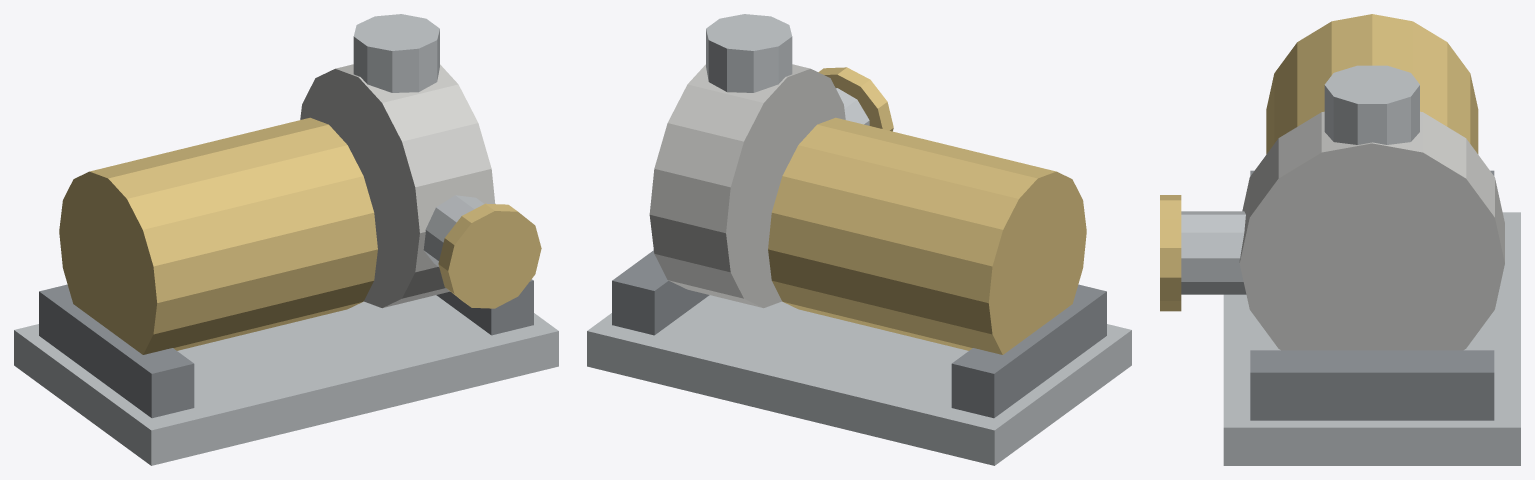
File: P_pump.fbx
The picture shows the model from 3 angles, left to right: view 1: azimuth 30°, elevation 25°; view 2: azimuth 150°, elevation 25°; view 3: azimuth 270°, elevation 25°; orthographic projection. The views are drawn at different scales.
Parts seen in each view (by area): view 1: P_pump; view 2: P_pump; view 3: P_pump.
Part boxes in pixels (<box>): P_pump: <box>14,14,558,465</box>; P_pump: <box>587,14,1131,465</box>; P_pump: <box>1160,14,1520,465</box>.
Bounding box in the file's own units: 0.96 × 0.69 × 0.68.
